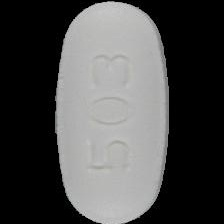54092-515: (0, 0, 224, 224)
